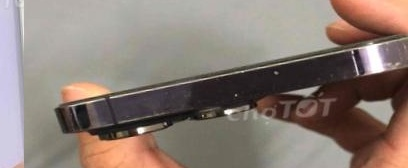scratch: (39, 31, 408, 149), (124, 61, 271, 89), (85, 100, 195, 133), (340, 52, 408, 80), (224, 86, 256, 104), (267, 66, 303, 81)
